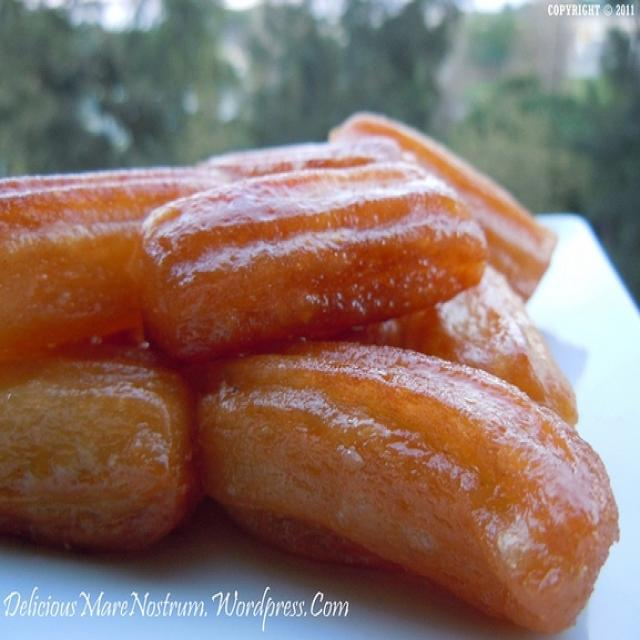炸货点心: (18, 61, 593, 604)
